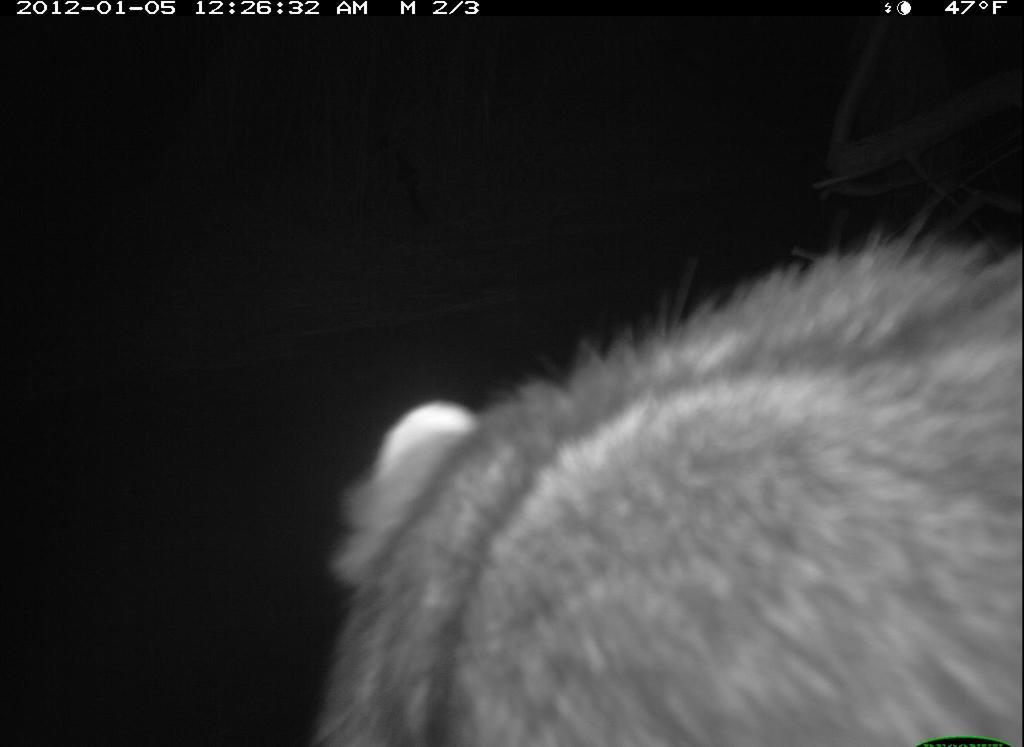raccoon: (315, 222, 1023, 747)
